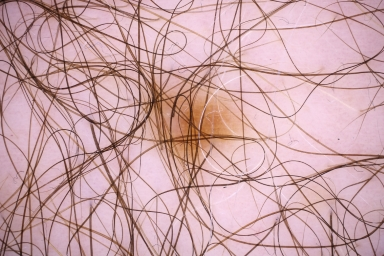melanoma: (158, 94, 241, 155)
